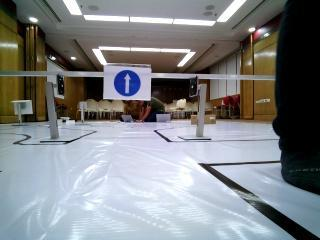straight: (106, 65, 154, 100)
